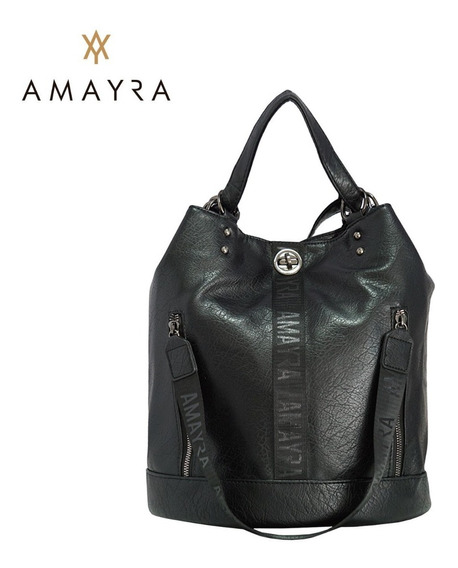cartera: (145, 87, 436, 540)
